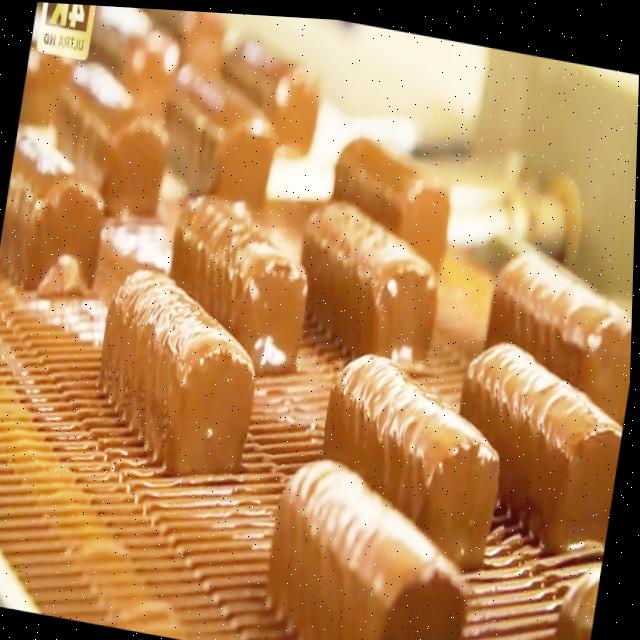Choco: (309, 336, 519, 566), (258, 441, 491, 640), (85, 254, 275, 487), (444, 329, 633, 550), (157, 178, 324, 375), (468, 234, 635, 422), (288, 185, 454, 363), (0, 131, 119, 319), (46, 60, 180, 222), (323, 121, 465, 265), (156, 53, 289, 205), (205, 26, 332, 155)
